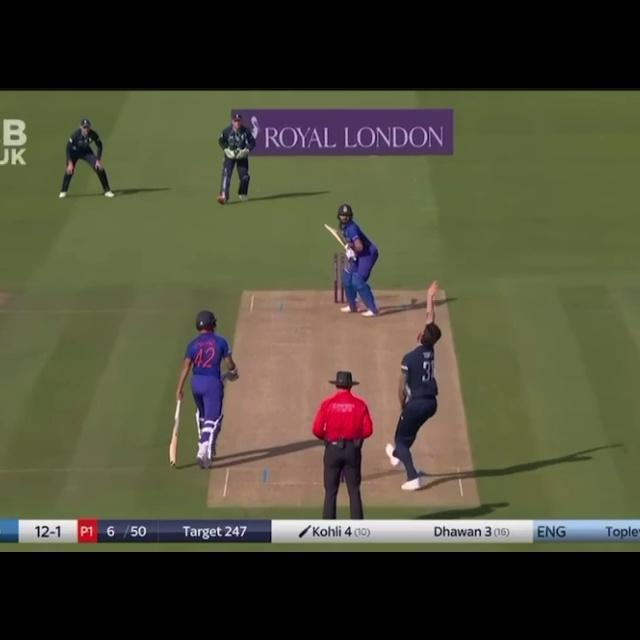umpire: (310, 364, 380, 517)
